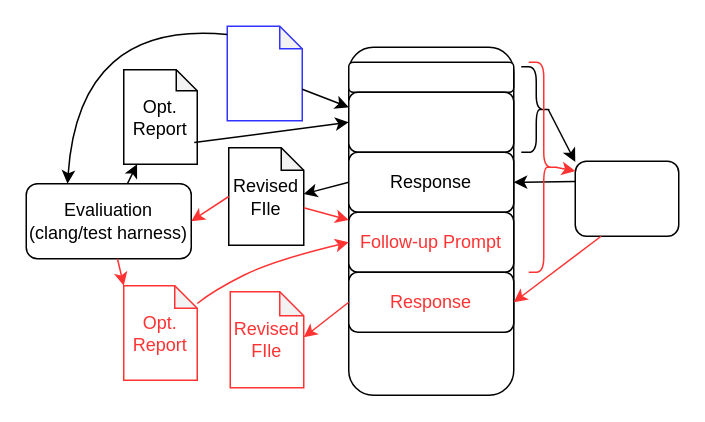
The diagram is 705 pixels wide and 422 high, and some of its shapes have lost their labels. Here are the shapes that lost their labels. From the top down, the centre of each, then its label:
At point (264, 73): "Original FIle".
At point (430, 76): "Context".
At point (430, 121): "Initial Prompt".
At point (626, 198): "AI (Gpt 4)".
